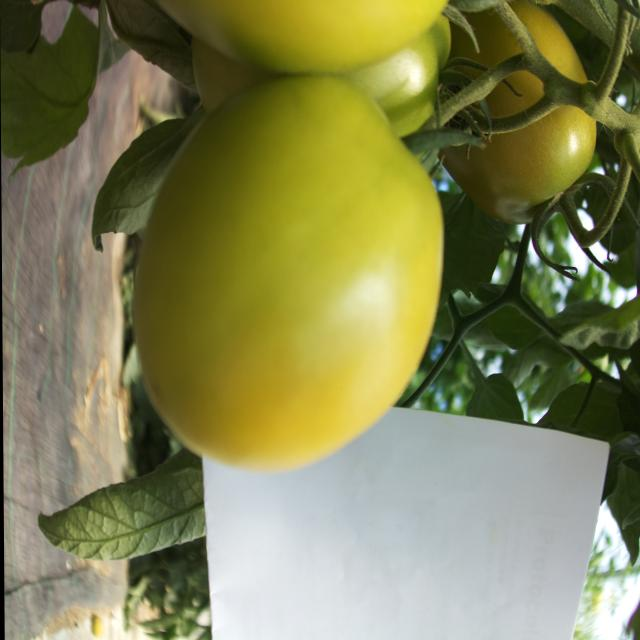yesil: (100, 87, 458, 450)
